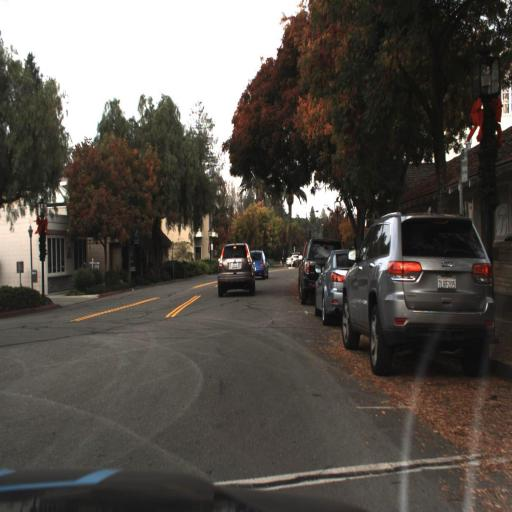car: (337, 209, 500, 382), (311, 244, 359, 326), (294, 236, 342, 306), (214, 241, 259, 300), (247, 246, 268, 278)
